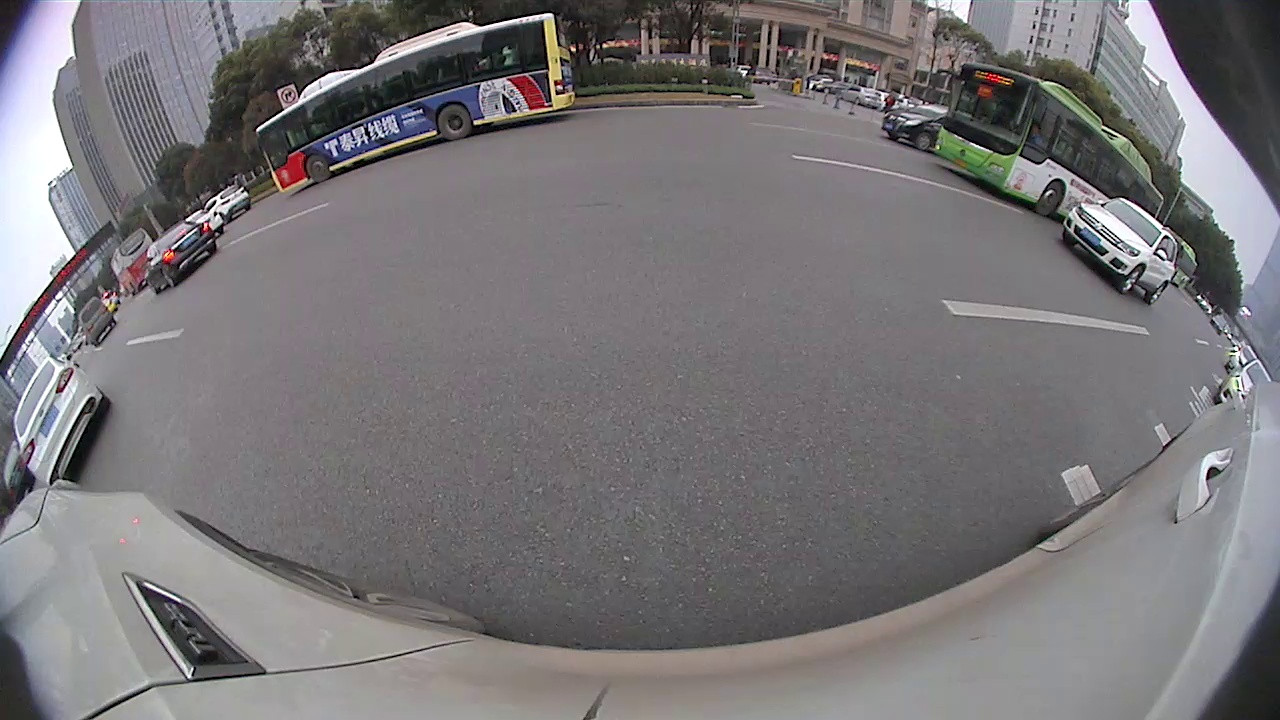bus: (253, 11, 576, 195), (933, 62, 1166, 226), (108, 225, 156, 297), (1162, 225, 1199, 292)
car: (1060, 196, 1182, 306), (11, 353, 110, 487), (144, 218, 219, 296), (880, 101, 954, 152), (1214, 357, 1274, 411), (203, 182, 253, 225), (76, 296, 117, 347), (183, 207, 226, 238), (1223, 344, 1259, 375)
front: (1030, 178, 1066, 217), (1113, 263, 1144, 296), (304, 151, 335, 182), (1057, 228, 1080, 251), (913, 132, 931, 153)
rear: (435, 102, 477, 142), (1144, 277, 1170, 309), (89, 391, 114, 419), (164, 268, 178, 290), (206, 241, 220, 257)
